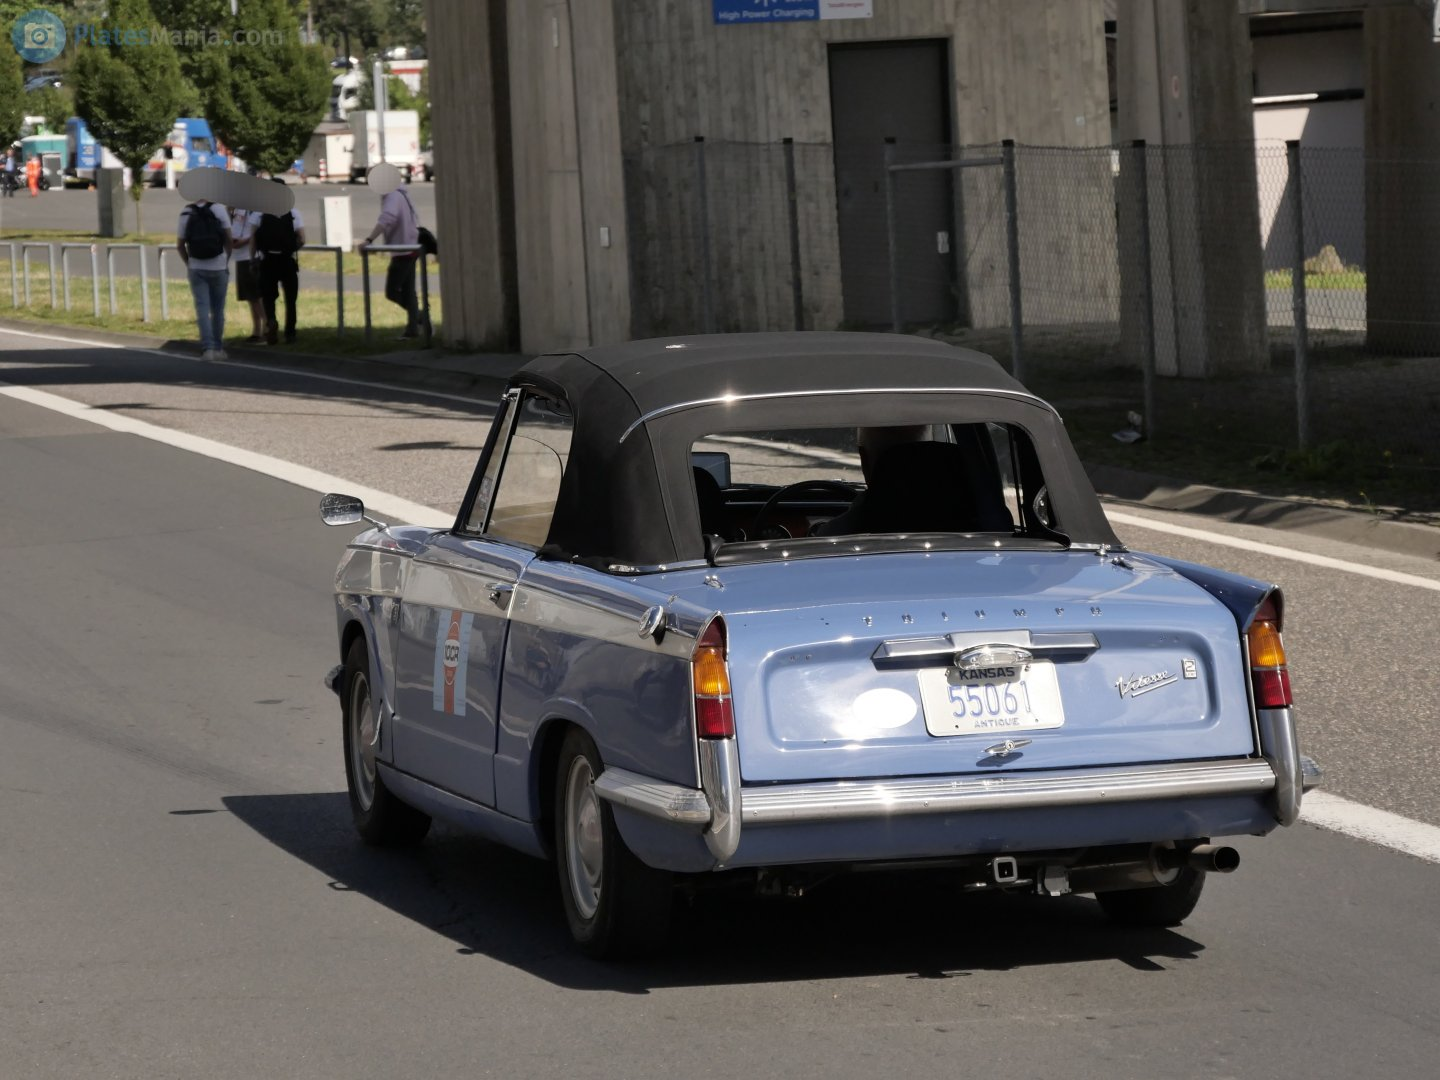license plate: (910, 664, 1068, 733)
